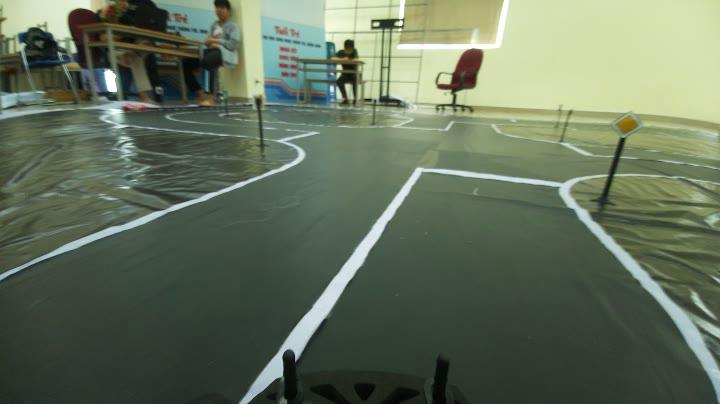priority: (610, 106, 646, 142)
